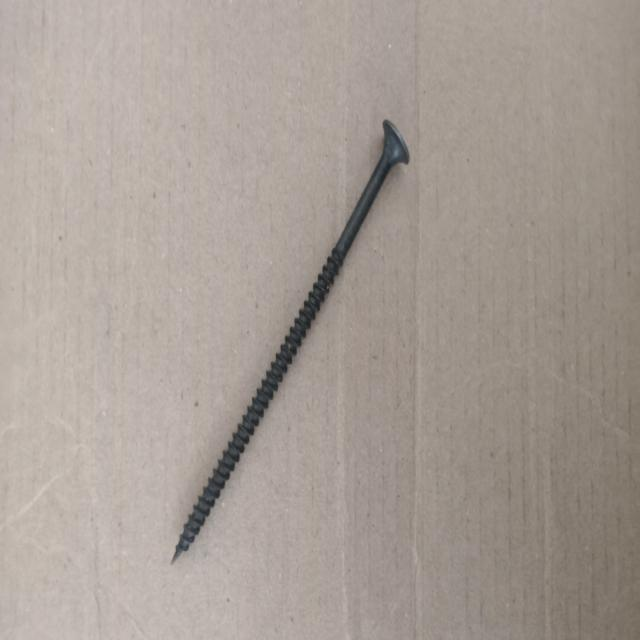screw: (171, 120, 410, 564)
